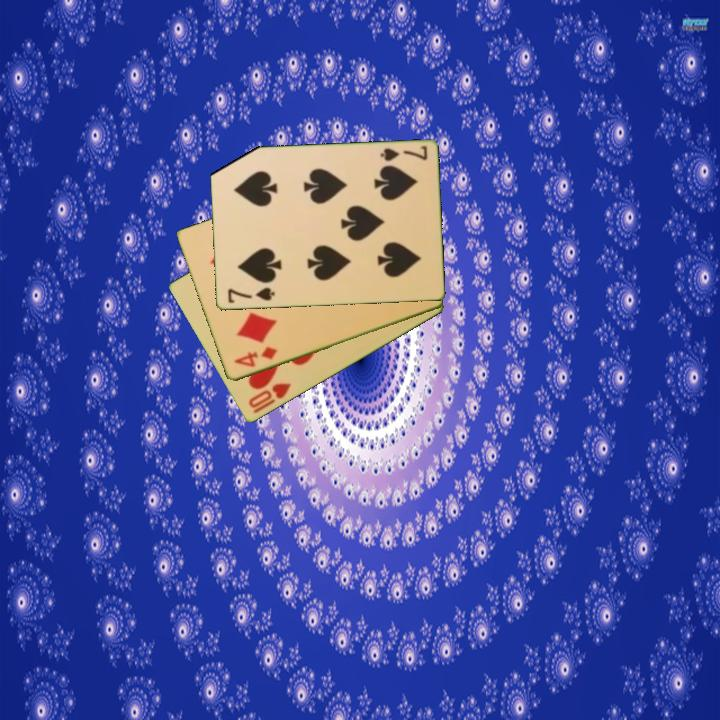10h: (245, 380, 294, 411)
4d: (231, 343, 280, 371)
7s: (224, 284, 277, 306), (377, 143, 430, 164)
